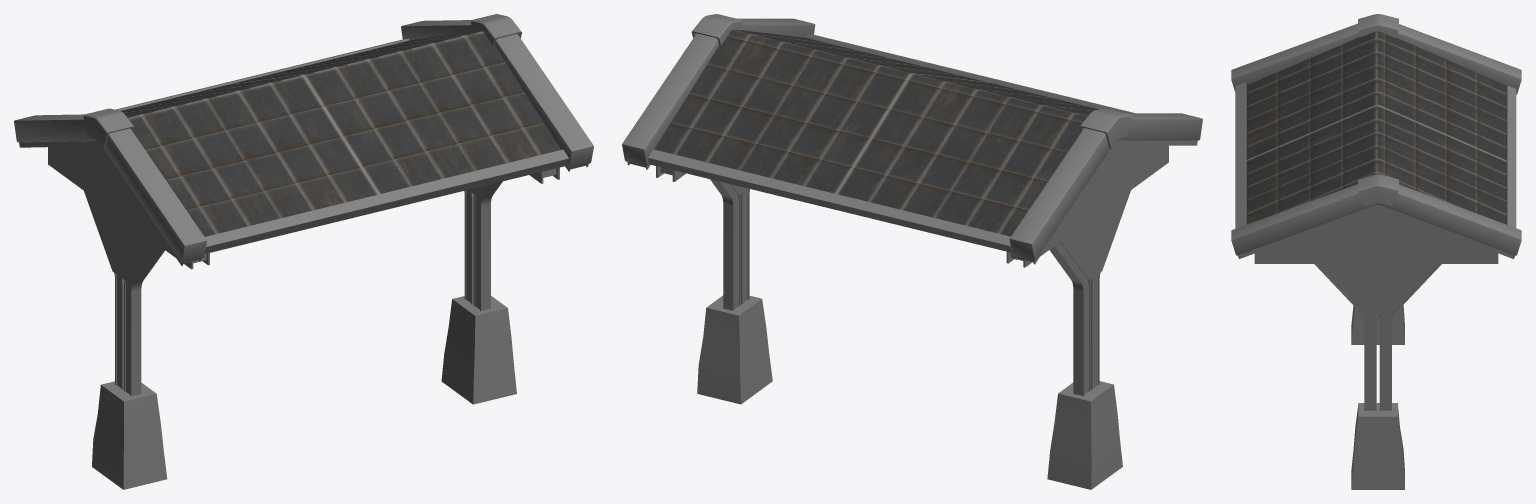
The model's file is SM_busstop.fbx.
The picture shows the model from 3 angles, left to right: view 1: azimuth 30°, elevation 25°; view 2: azimuth 150°, elevation 25°; view 3: azimuth 270°, elevation 25°; orthographic projection. The views are drawn at different scales.
Visible parts, largest first — view 1: Object32377; view 2: Object32377; view 3: Object32377.
Part boxes in pixels (box(x1,y1,x2,y2)): Object32377: box(14, 14, 593, 489); Object32377: box(622, 14, 1202, 489); Object32377: box(1231, 14, 1521, 489).
Bounding box in the file's own units: 165 × 138 × 118.
